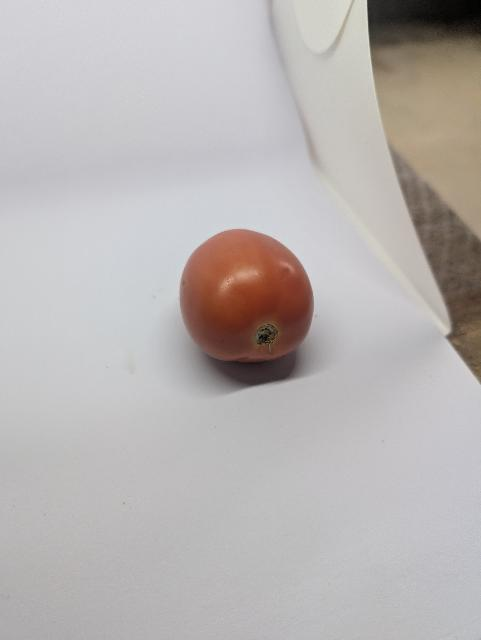red: (174, 224, 329, 386)
